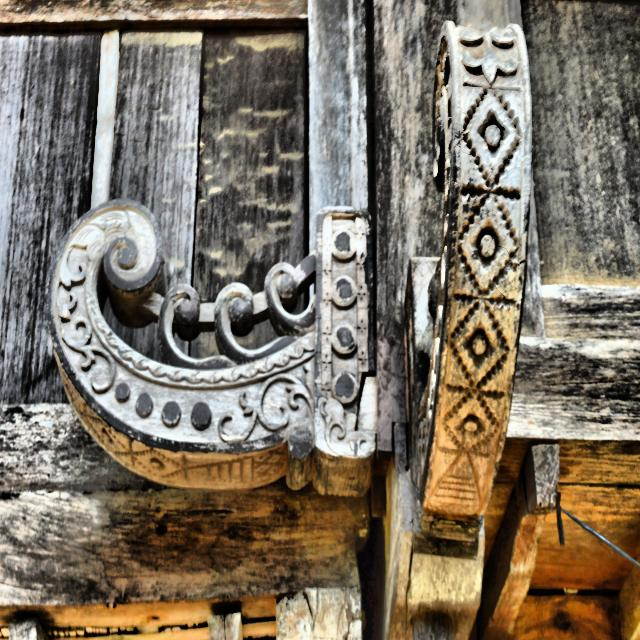ornamen: (46, 198, 376, 497), (414, 21, 532, 560)
